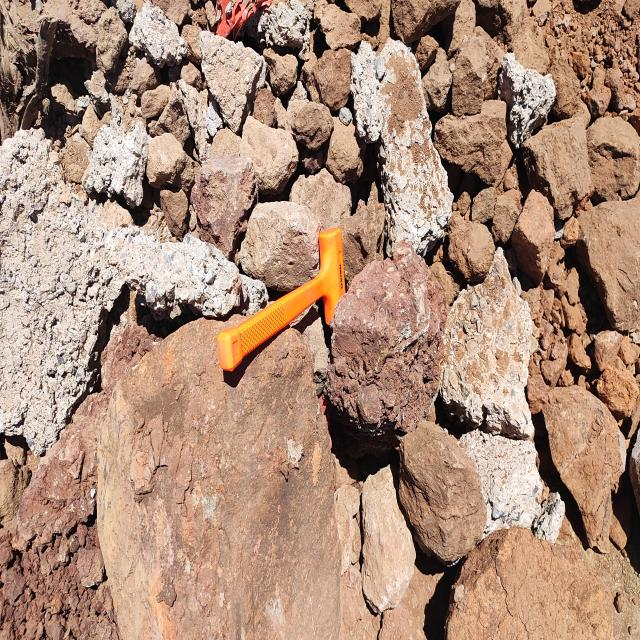Orange_hammer: (216, 224, 346, 374)
rock: (541, 373, 627, 547), (396, 412, 488, 565), (355, 457, 417, 615), (197, 133, 260, 256), (585, 107, 640, 199), (292, 90, 332, 162), (452, 49, 485, 124)
